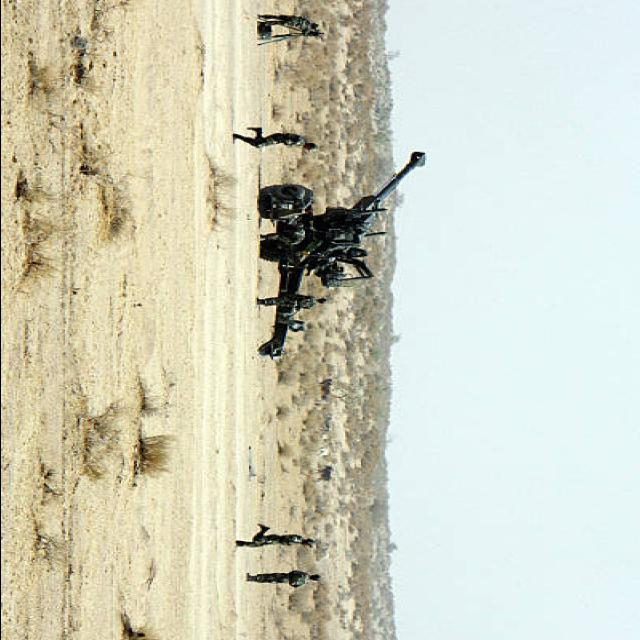soldier: (233, 523, 315, 547), (231, 127, 316, 150), (244, 570, 320, 588), (256, 15, 319, 34), (255, 294, 326, 310), (259, 228, 304, 244)
